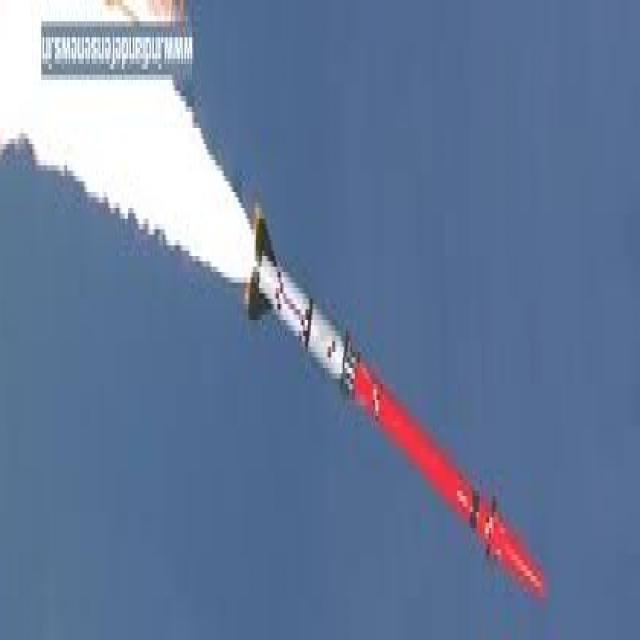missile: (245, 203, 547, 596)
